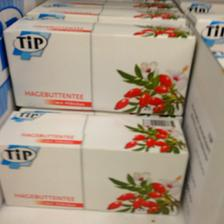Tee: (0, 108, 190, 214), (2, 14, 196, 114)
